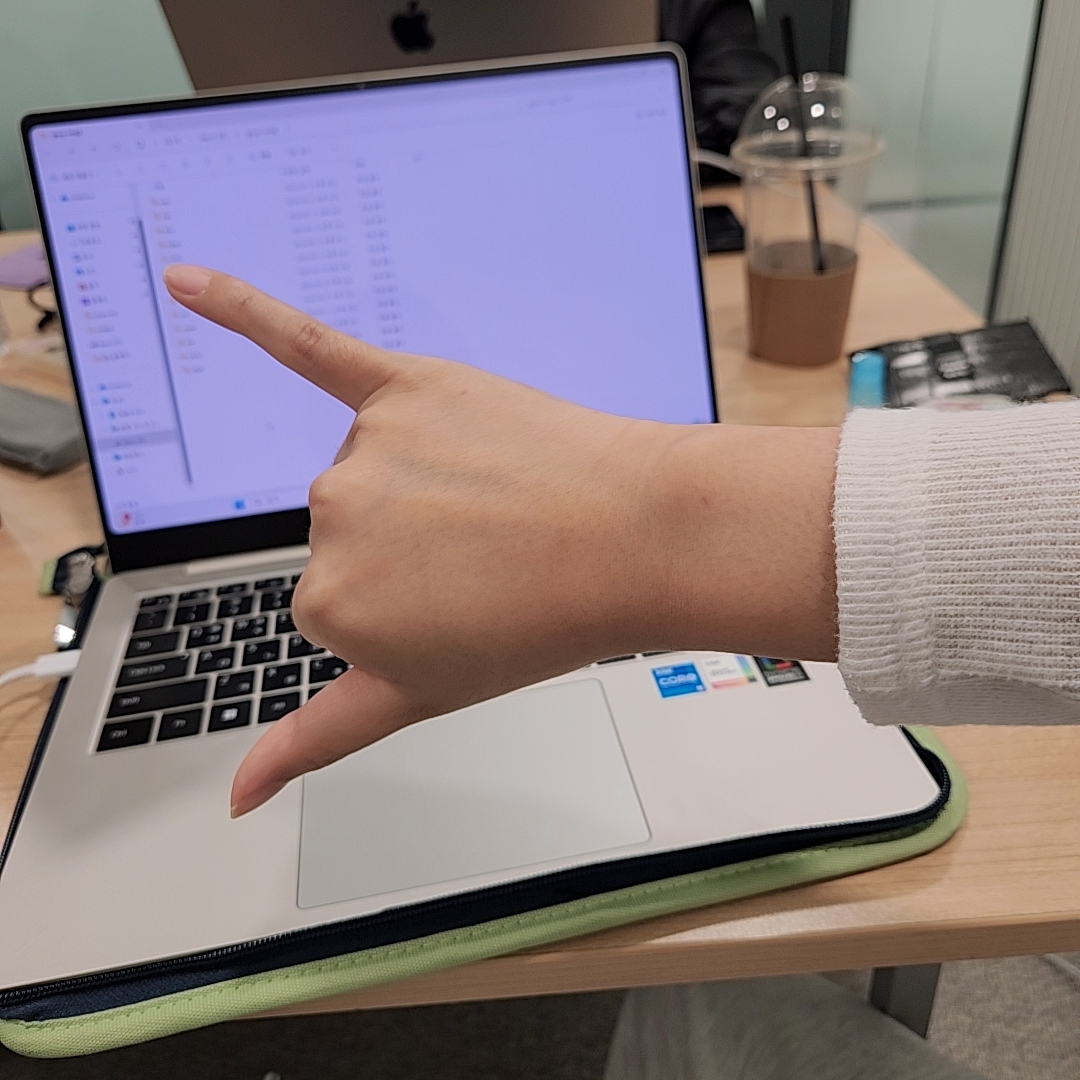call: (162, 260, 609, 821)
